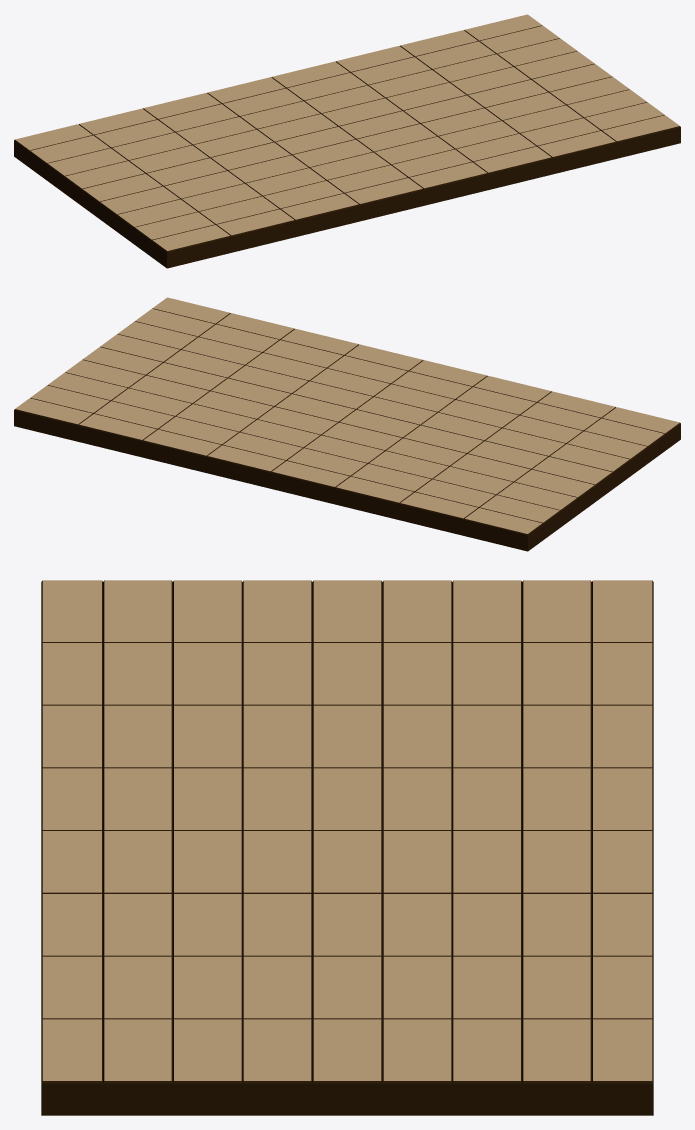
Rendered from nuevosuelo6.fbx.
3 views of the same model, one above another, from view 1: azimuth 30°, elevation 25°; view 2: azimuth 150°, elevation 25°; view 3: azimuth 270°, elevation 25° (orthographic). The views are drawn at different scales.
Parts seen in each view (by area): view 1: Cube.022; view 2: Cube.022; view 3: Cube.022.
Boxes of the visible parts, x1=… form: Cube.022: x1=14, y1=14, x2=680, y2=268; Cube.022: x1=14, y1=297, x2=680, y2=551; Cube.022: x1=41, y1=580, x2=653, y2=1115.
Size of the model in its own units: 10093 by 321 by 5207.
